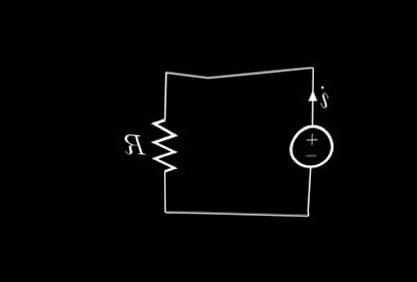Battery: (277, 116, 354, 180)
